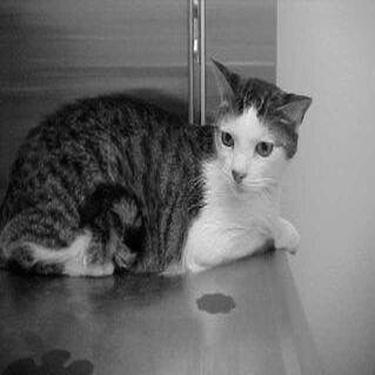cat: (4, 49, 317, 296)
